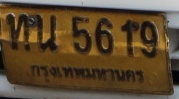txt18: (5, 12, 32, 52)
txt20: (32, 13, 59, 52)
